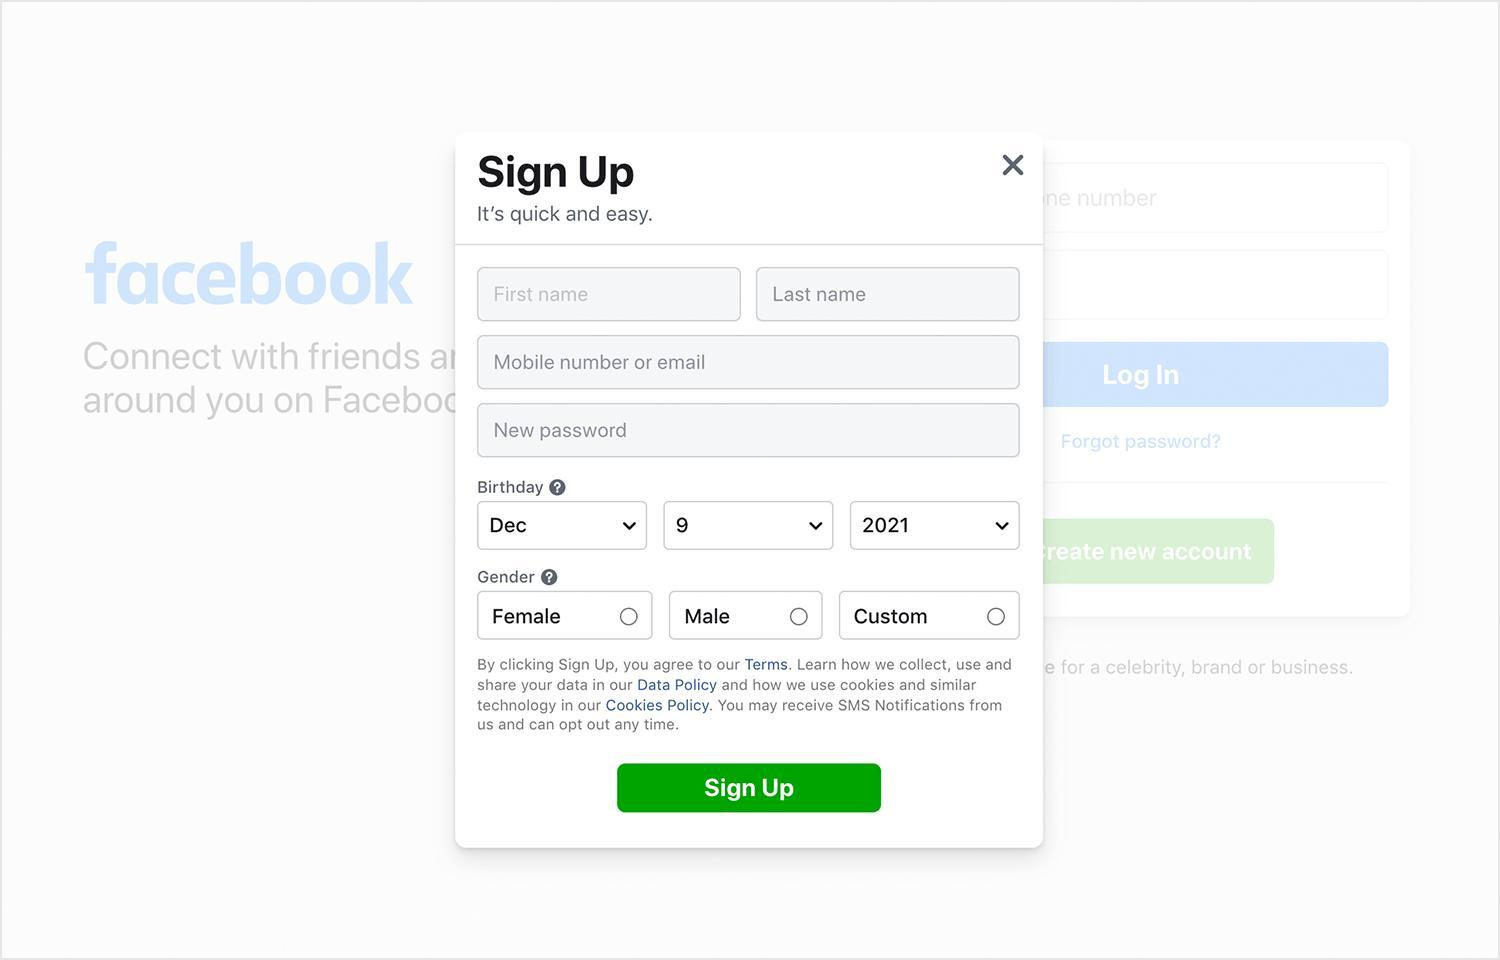button: (617, 763, 886, 813)
dropdown: (477, 499, 651, 552), (663, 501, 835, 551), (853, 501, 1020, 550)
input: (479, 336, 1020, 390), (480, 403, 1020, 458), (759, 268, 1020, 321), (479, 271, 743, 320)
label: (847, 602, 933, 631), (477, 475, 569, 499), (491, 602, 569, 630), (474, 566, 561, 587), (683, 600, 739, 631)
radio: (981, 602, 1011, 637), (786, 602, 818, 631), (614, 602, 641, 630)
